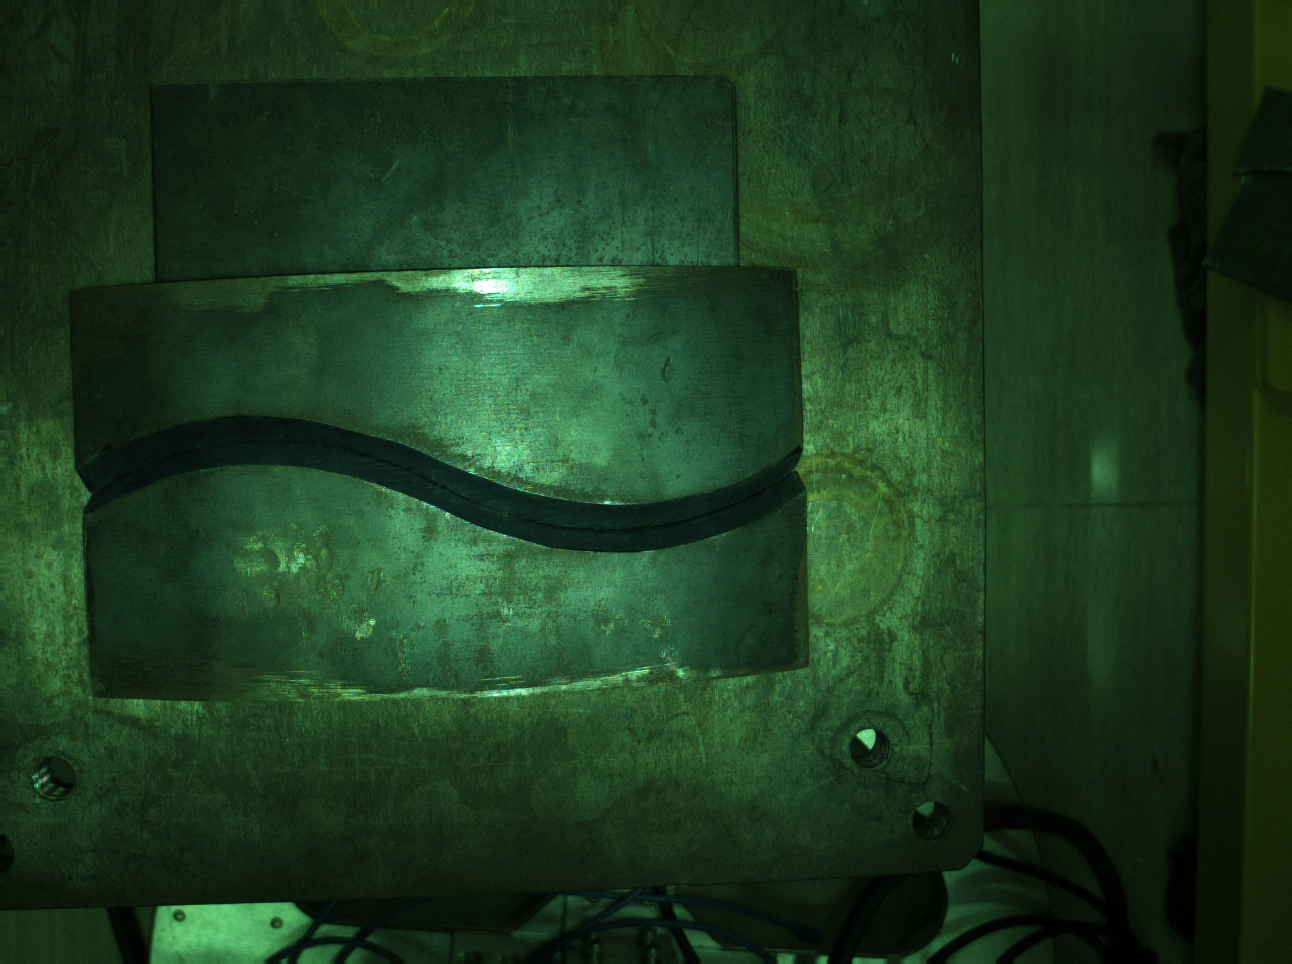Butt joint: (41, 444, 141, 544), (745, 420, 845, 520)
